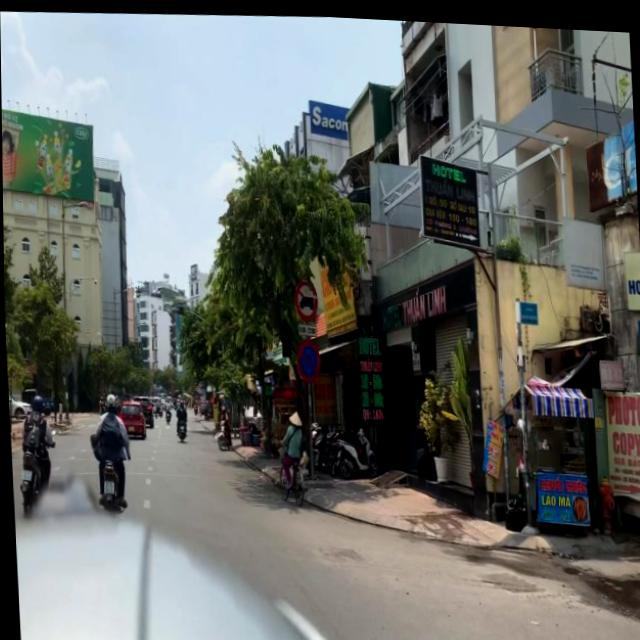Cam do xe: (295, 334, 320, 379)
Cam xe tai: (292, 273, 317, 319)
